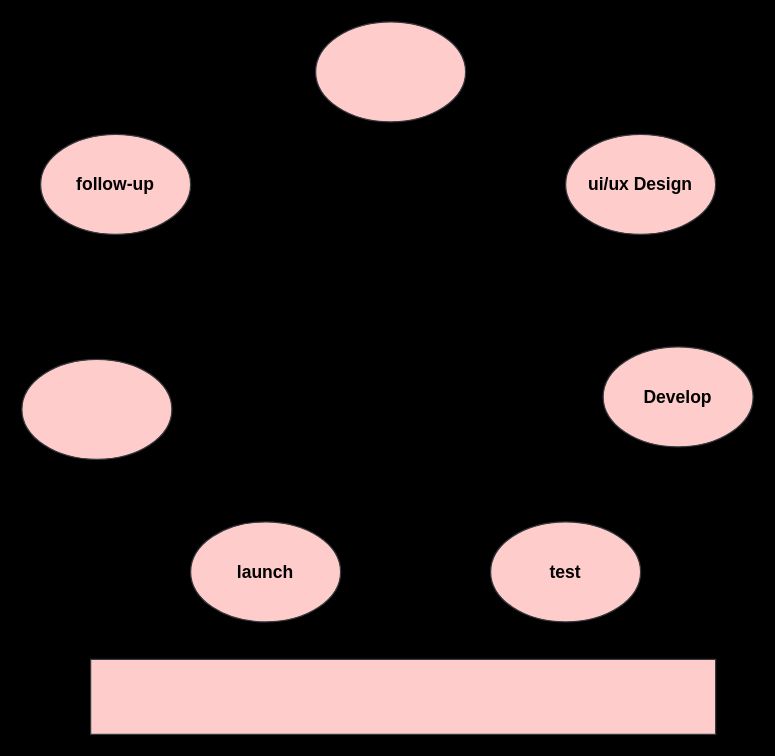
Some shapes in this 775 by 756 pixel diagram are drawn without their labels. Here are the shapes that lost their labels. From the top down, the box of each, then its label:
(314, 21, 466, 122): Idea
(21, 358, 172, 459): use/feedback
(89, 658, 716, 734): Lifecycle of website-(selfcare)
